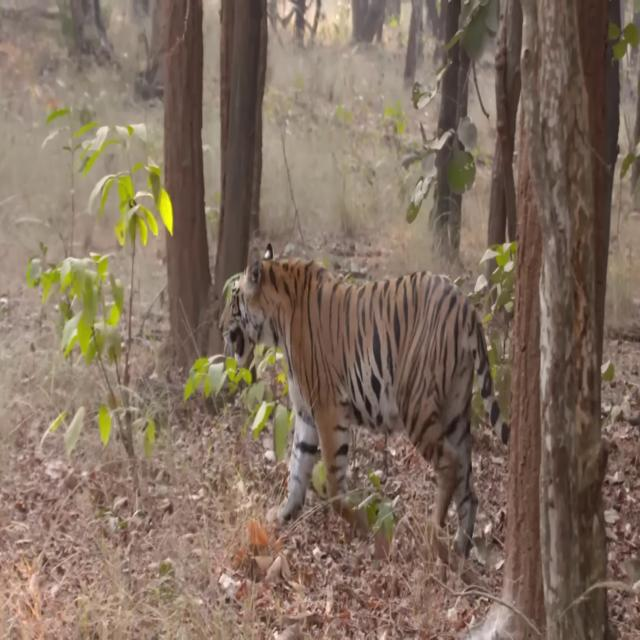tiger: (218, 240, 509, 561)
